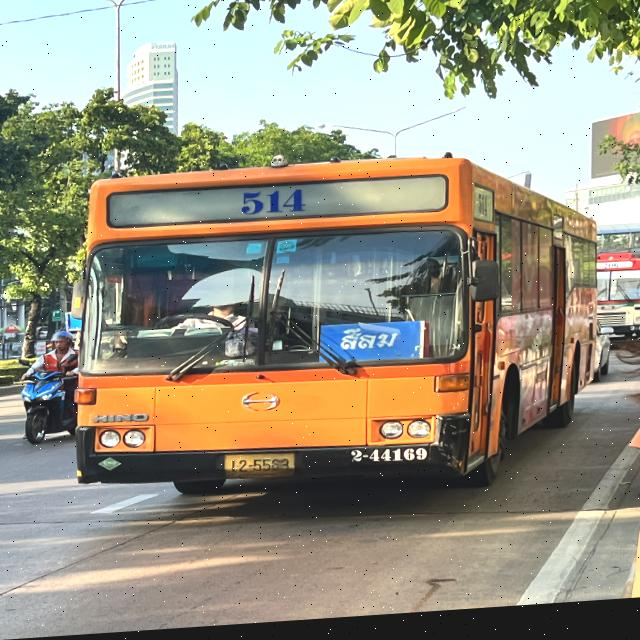BMTA-bus: (66, 136, 601, 512)
Bus Line Number: (224, 185, 320, 226)
Bus Side Number: (344, 450, 433, 474)
Destination Sign: (318, 325, 419, 368)
